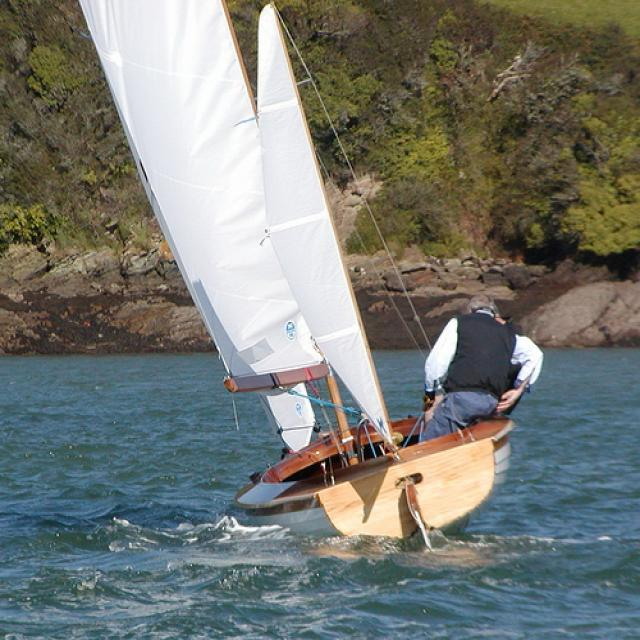Ship: (75, 3, 546, 568)
